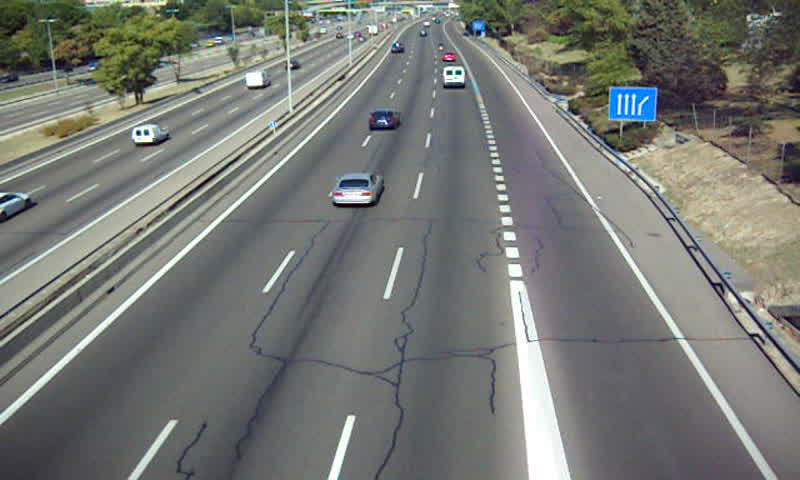car: (329, 171, 384, 206), (368, 110, 399, 129), (442, 51, 457, 63)
van: (443, 66, 465, 86)
